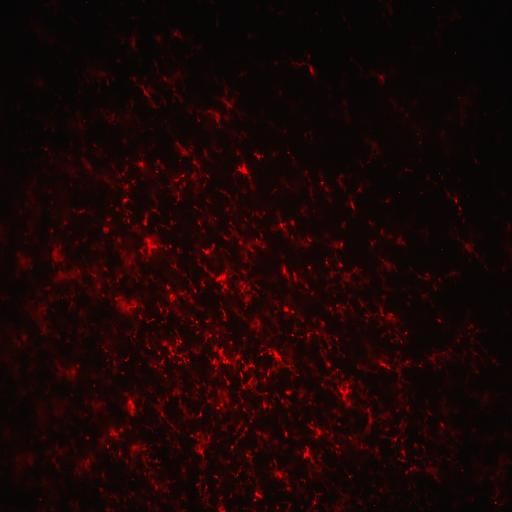microglia: (364, 0, 468, 57), (7, 118, 73, 195), (377, 398, 438, 479), (286, 162, 343, 244), (39, 234, 98, 304), (416, 325, 490, 379), (373, 78, 428, 146), (288, 316, 342, 373), (154, 20, 204, 76), (76, 59, 130, 110), (448, 207, 492, 266), (135, 62, 184, 113), (362, 215, 412, 264), (361, 296, 409, 346), (175, 301, 221, 345), (109, 238, 147, 291), (408, 268, 459, 306), (322, 252, 368, 294), (154, 385, 190, 436), (371, 349, 414, 389), (224, 228, 269, 265), (260, 340, 303, 378), (348, 131, 385, 173), (348, 58, 390, 94), (199, 260, 236, 299), (214, 82, 248, 124), (278, 262, 319, 296), (228, 150, 260, 192), (104, 290, 146, 322), (336, 180, 368, 220), (234, 269, 263, 313), (209, 336, 243, 372), (351, 404, 389, 436), (264, 456, 296, 491), (207, 386, 237, 422), (162, 333, 192, 367), (164, 169, 190, 207), (190, 430, 213, 471), (117, 387, 146, 419), (114, 158, 138, 196), (188, 152, 213, 188), (228, 418, 253, 453), (298, 446, 325, 478), (53, 358, 85, 384), (156, 282, 180, 316), (304, 419, 335, 445), (334, 379, 359, 411), (138, 232, 166, 260), (146, 468, 171, 498), (286, 53, 318, 75), (234, 452, 256, 484), (102, 417, 130, 442), (202, 103, 226, 131), (127, 436, 149, 466), (236, 375, 263, 398), (47, 238, 64, 272), (154, 114, 178, 138), (170, 134, 192, 159), (115, 192, 131, 224), (277, 218, 300, 240), (236, 354, 258, 376), (442, 186, 460, 208), (257, 396, 276, 416), (202, 242, 215, 256), (366, 128, 379, 140), (254, 152, 263, 160), (303, 448, 310, 458), (282, 264, 287, 274), (103, 226, 109, 234), (254, 492, 262, 498), (283, 306, 289, 312), (279, 222, 285, 228), (139, 161, 144, 167), (123, 198, 130, 202), (143, 219, 147, 226), (436, 318, 441, 323)
